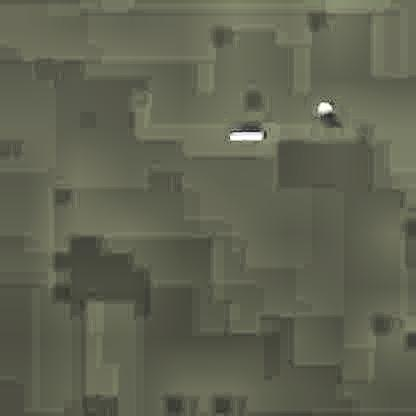golfball: (313, 98, 330, 114)
